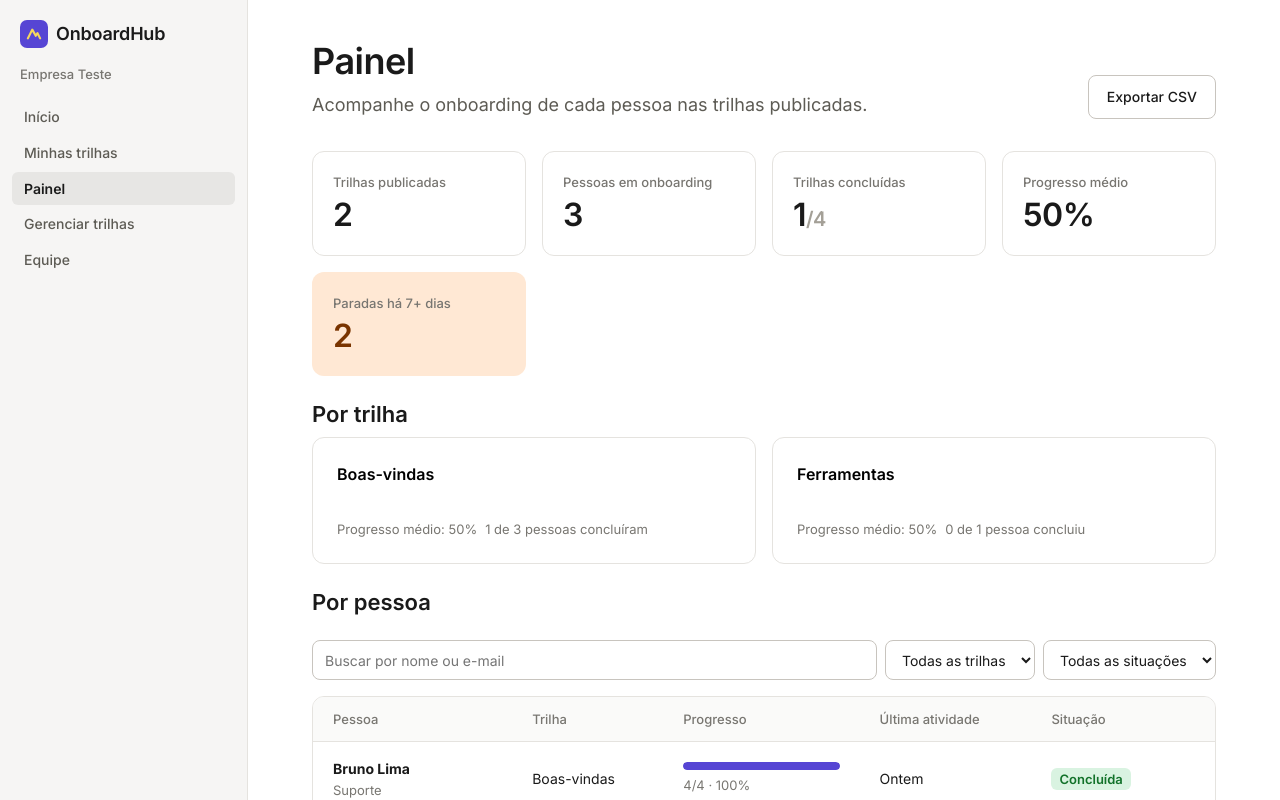
Test: painel do gestor › filtra por trilha, situação e busca
Click the button "Ferramentas Progresso médio: 50% 0 de 1 pessoa concluiu".
click(846, 474)  # box [772,437,1216,564]
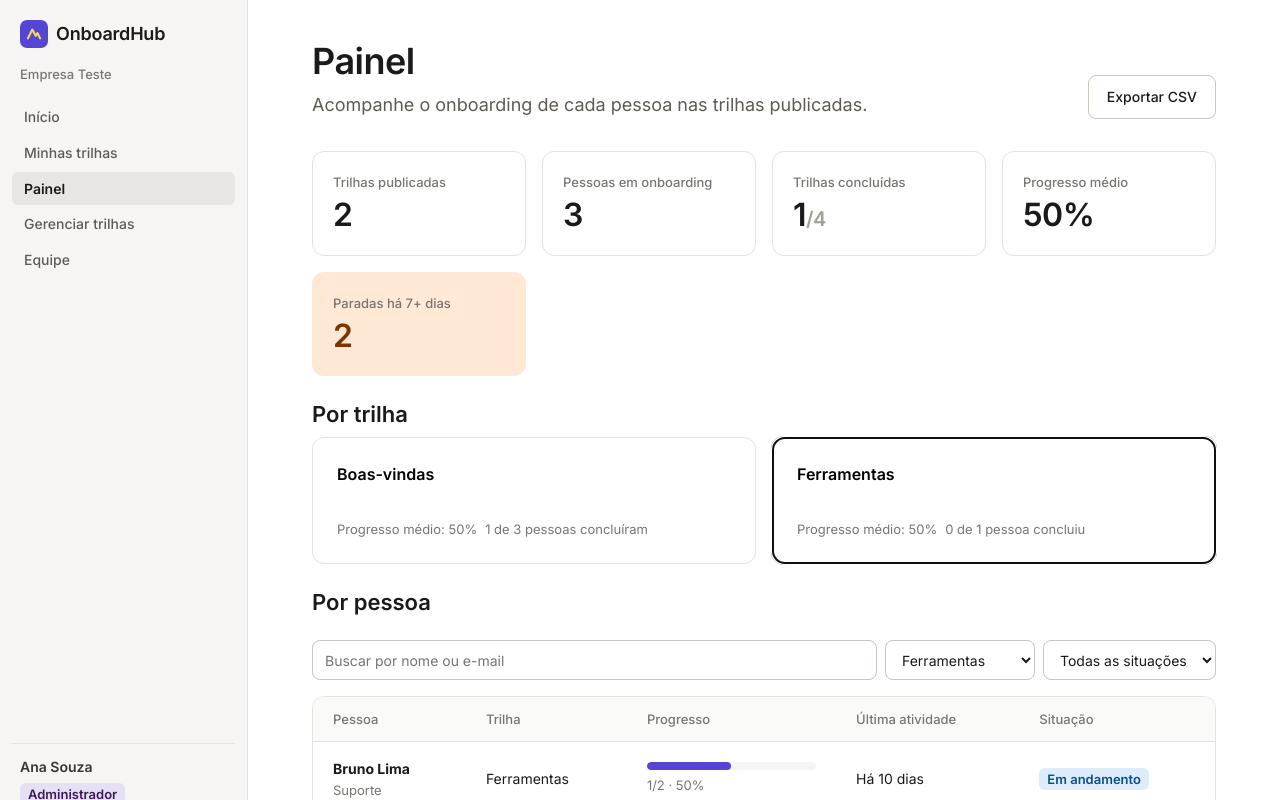
expect the button "Ferramentas Progresso médio: 50% 0 de 1 pessoa concluiu" is pressed: met
Click the button "Ferramentas Progresso médio: 50% 0 de 1 pessoa concluiu".
click(846, 474)  # box [772,437,1216,564]
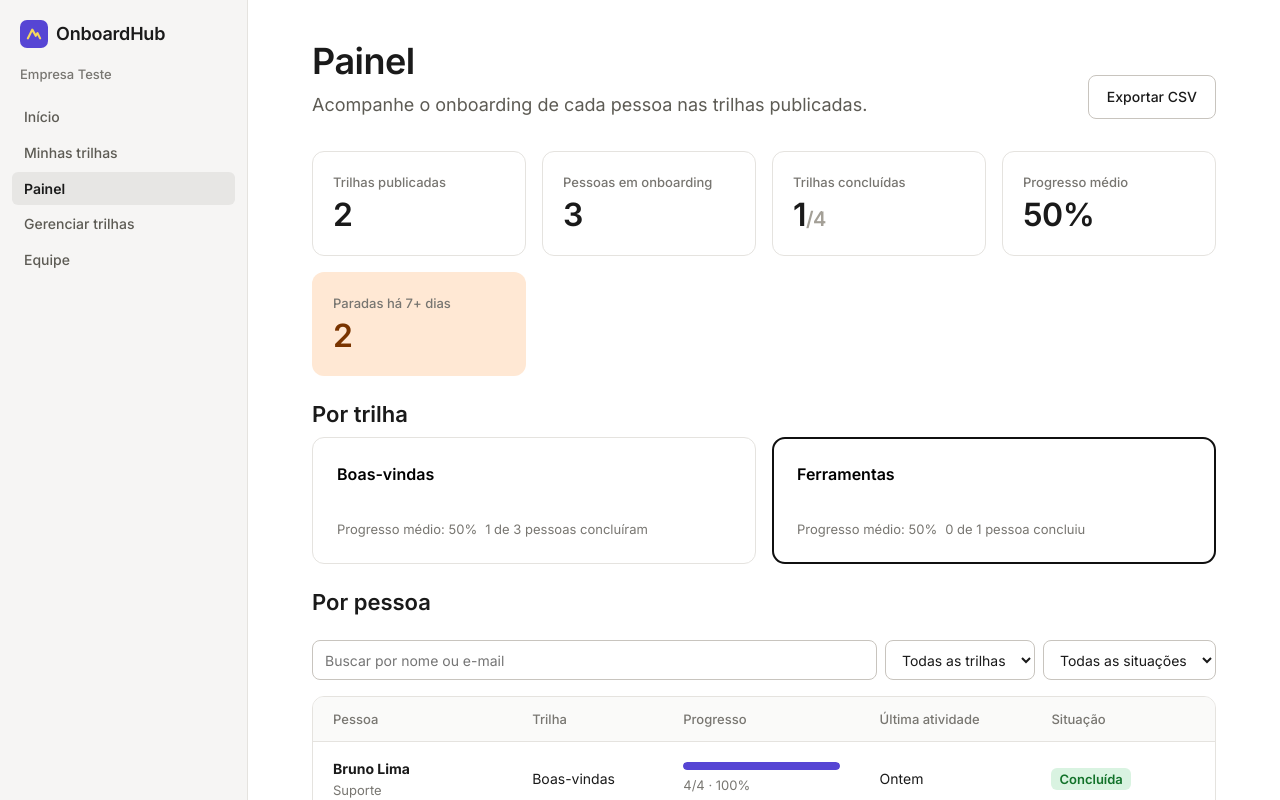
expect the dropdown named "Filtrar por trilha" shows "Todas as trilhas": met, box [885,640,1035,680]
Select "Não iniciou" in the dropdown named "Filtrar por situação" at (1130, 660), box [1043,640,1216,680]
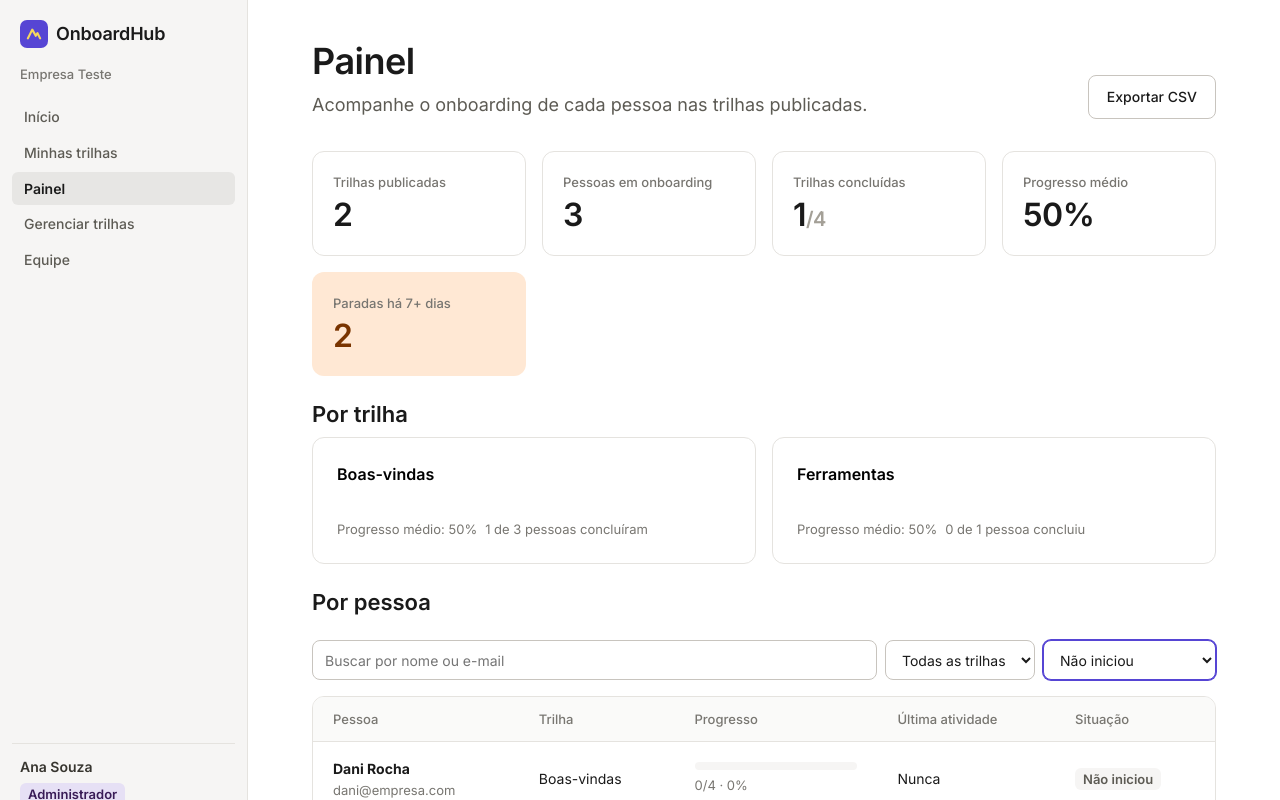
expect the text "Dani Rocha" is shown: met, box [333,760,410,777]
Select "Todas as situações" in the dropdown named "Filtrar por situação" at (1130, 660), box [1043,640,1216,680]
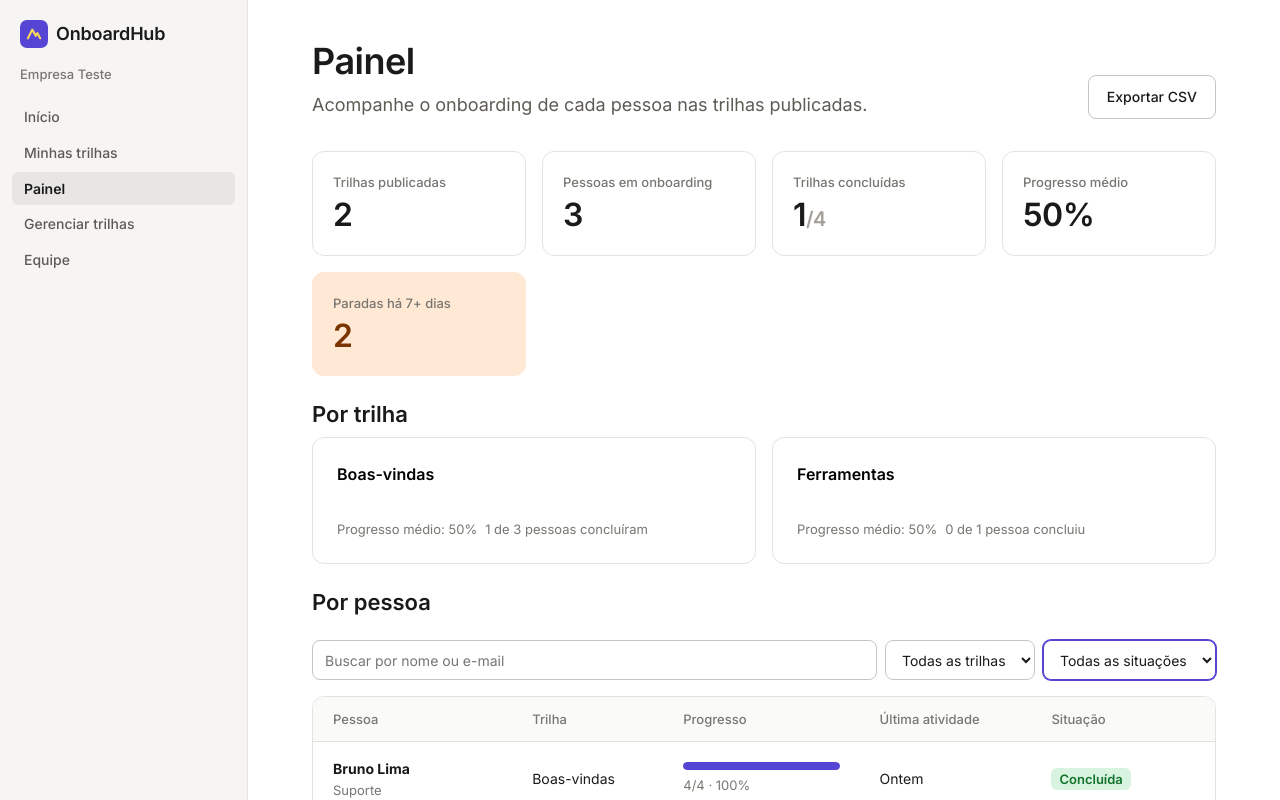
Type "carla" into the search field named "Buscar pessoa".
click(594, 660); type("carla")  # box [312,640,877,680]
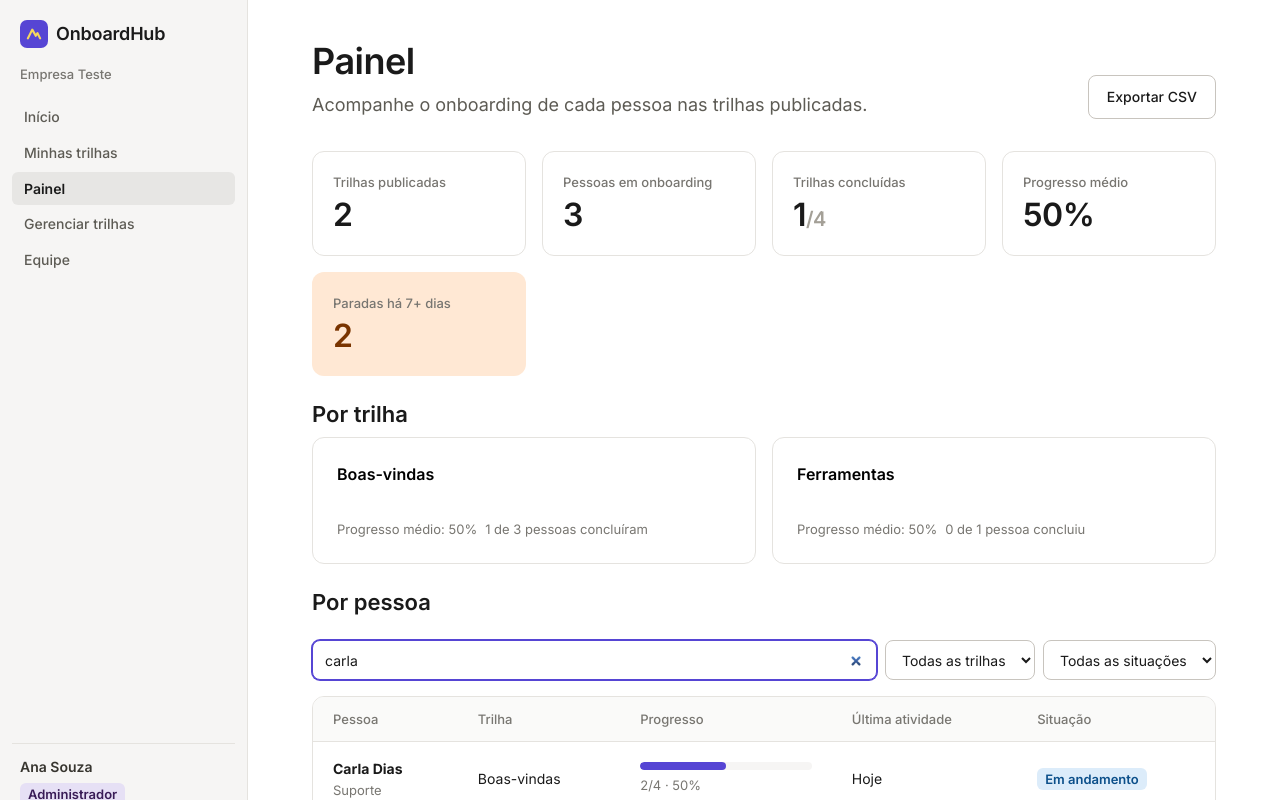
Replace the text in the search field named "Buscar pessoa" with "ninguém" at (594, 660), box [312,640,877,680]
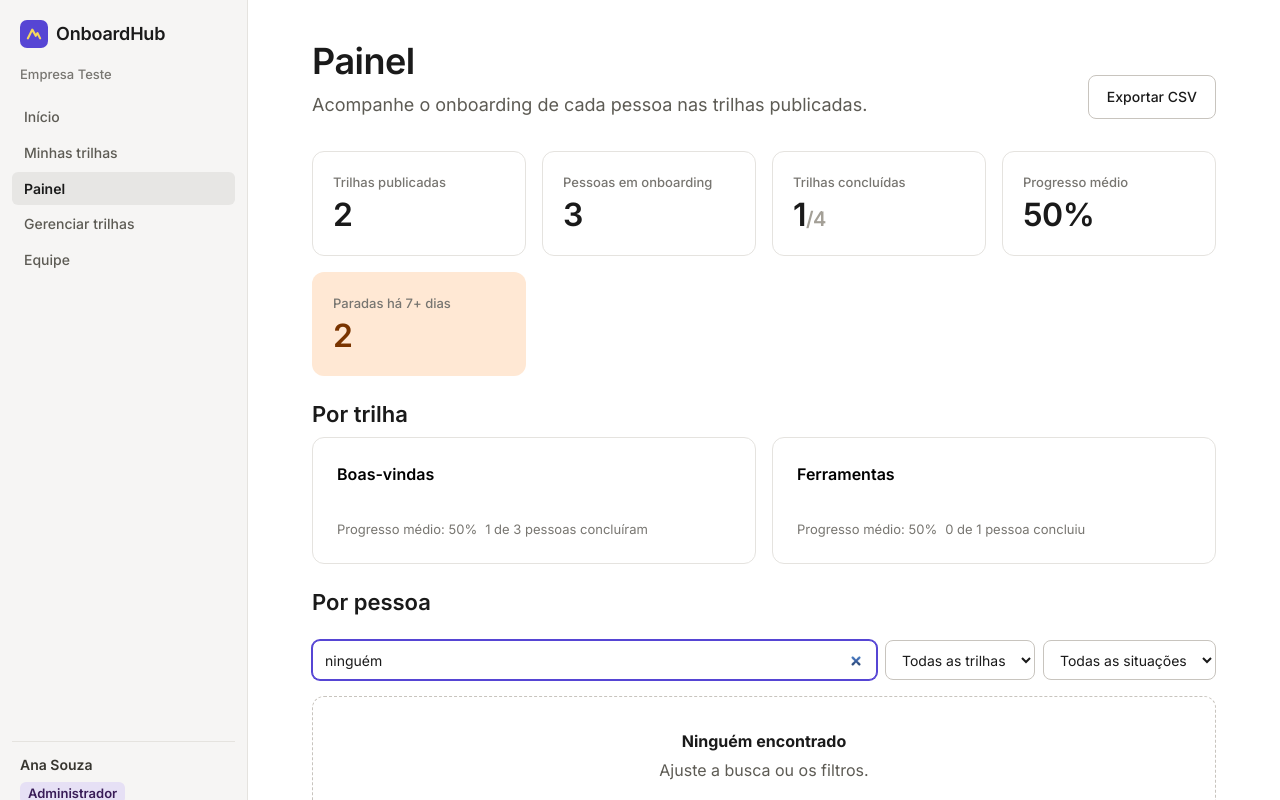
expect the text "Ninguém encontrado" is shown: met, box [682,731,846,751]
